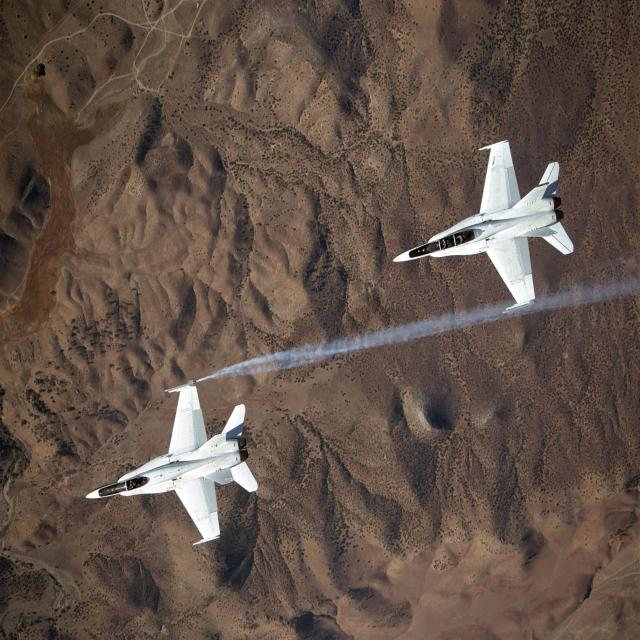MIL_Plane: (392, 139, 574, 314), (85, 380, 258, 545)
